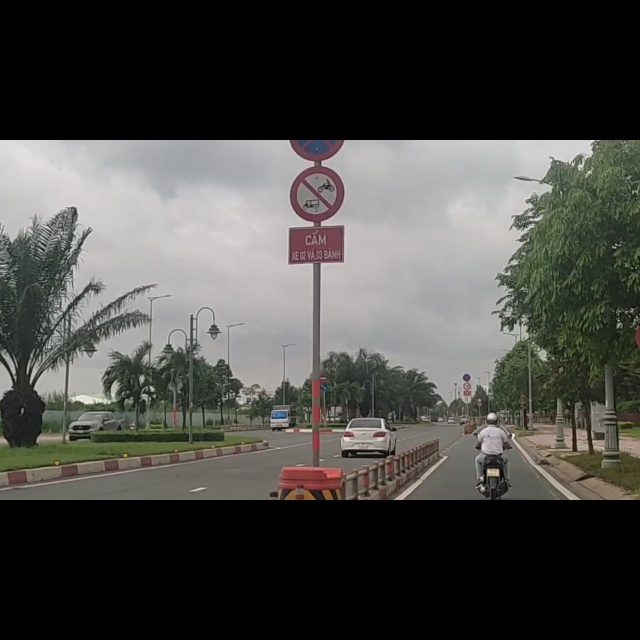bien_cam: (284, 38, 347, 151)
